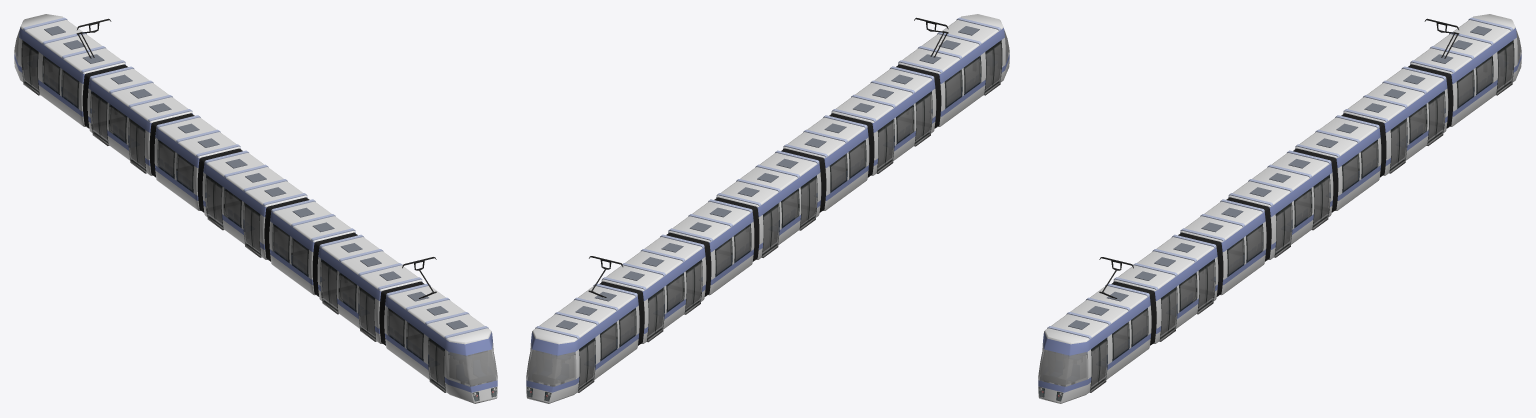
The model's file is sweethome3d-scopia-tramway.glb.
3 renders of one model, left to right at view 1: azimuth 30°, elevation 25°; view 2: azimuth 150°, elevation 25°; view 3: azimuth 330°, elevation 25°, orthographic.
Visible parts, largest first — view 1: Wagons_Cube.001_Wagons_Cube.002, Locomotives_Cube.001, SupShapes_Cube.020, Inbetweens_Cube.006, hooks_Cube.004; view 2: Wagons_Cube.001_Wagons_Cube.002, Locomotives_Cube.001, SupShapes_Cube.020, Inbetweens_Cube.006, hooks_Cube.004; view 3: Wagons_Cube.001_Wagons_Cube.002, Locomotives_Cube.001, Wagons_Left_Windows, SupShapes_Cube.020, Locomotives_Left_Windows, Inbetweens_Cube.006, hooks_Cube.004.
Part boxes in pixels (x1,y1,x2,y2): Wagons_Cube.001_Wagons_Cube.002: (87, 68, 422, 343); Locomotives_Cube.001: (14, 14, 497, 403); SupShapes_Cube.020: (23, 17, 488, 339); Inbetweens_Cube.006: (82, 64, 424, 345); hooks_Cube.004: (76, 18, 436, 298); Wagons_Cube.001_Wagons_Cube.002: (601, 68, 936, 343); Locomotives_Cube.001: (526, 14, 1009, 403); SupShapes_Cube.020: (535, 17, 1000, 339); Inbetweens_Cube.006: (599, 64, 941, 345); hooks_Cube.004: (588, 17, 948, 297); Wagons_Cube.001_Wagons_Cube.002: (1113, 68, 1448, 343); Locomotives_Cube.001: (1038, 14, 1521, 403); Wagons_Left_Windows: (1160, 90, 1445, 339); SupShapes_Cube.020: (1047, 17, 1512, 339); Locomotives_Left_Windows: (1090, 40, 1514, 390); Inbetweens_Cube.006: (1111, 64, 1453, 345); hooks_Cube.004: (1099, 18, 1459, 298).
Bounding box in the file's own units: 245 × 482 × 4223.
16 materials, 3 textured.
